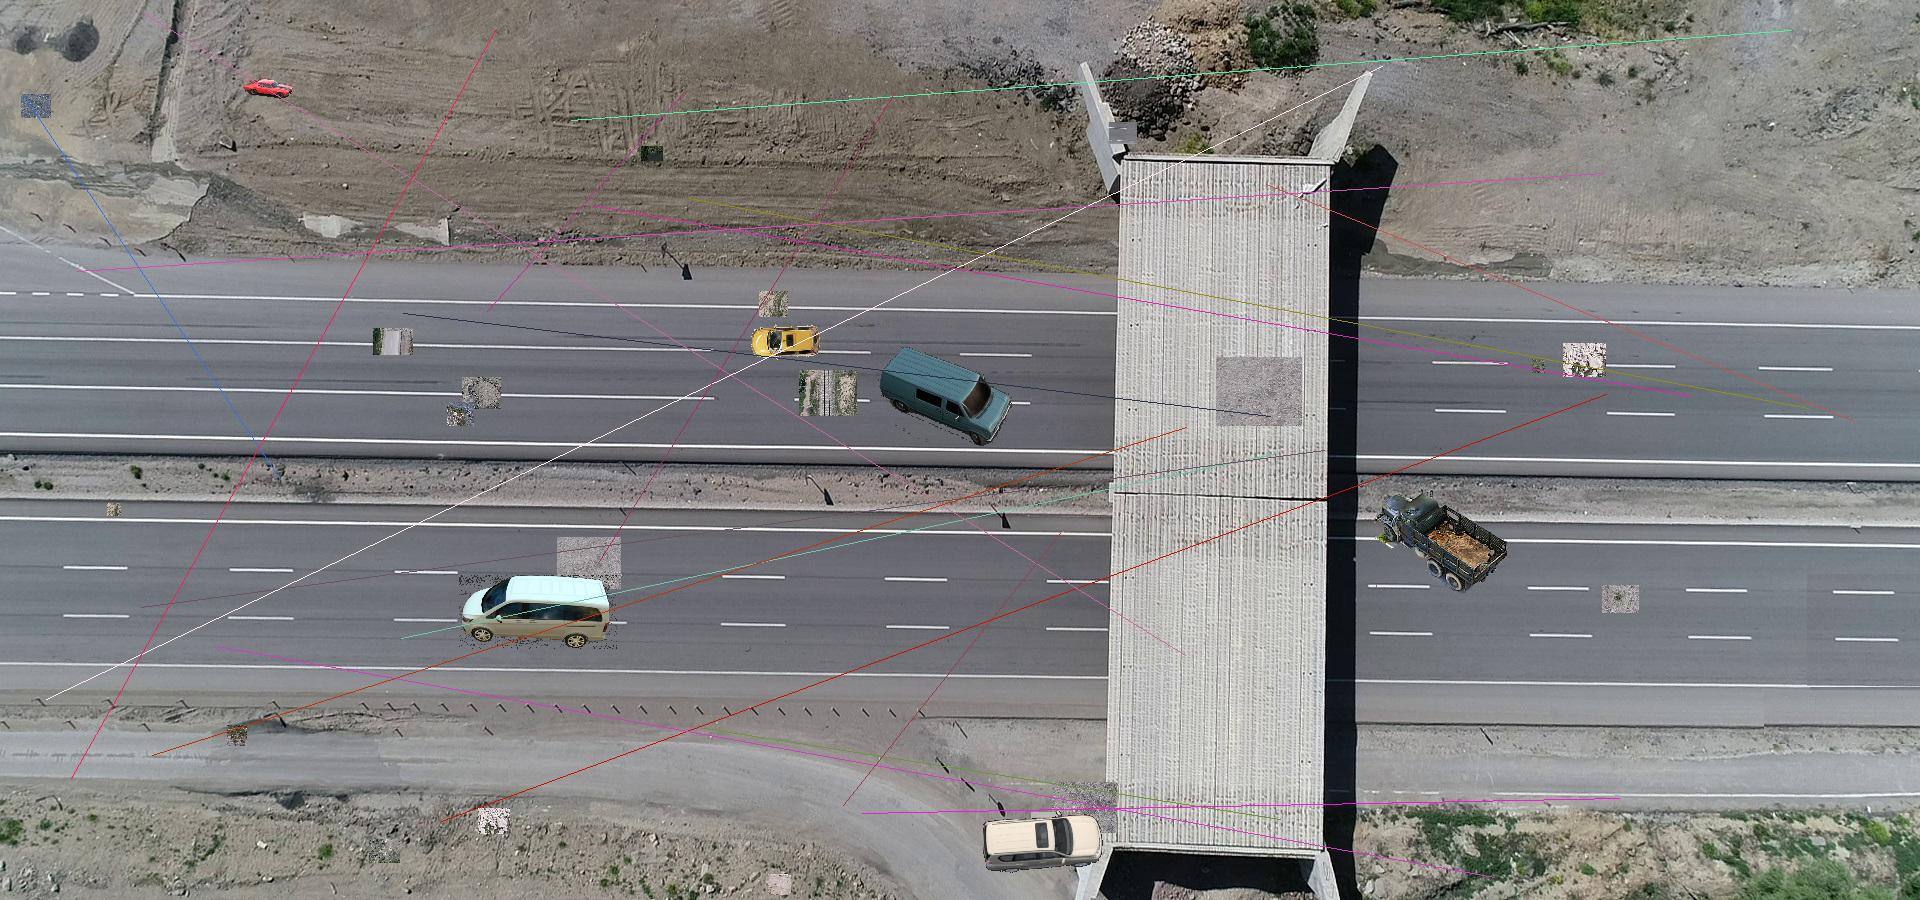arac: (1369, 486, 1509, 594), (878, 344, 1011, 447), (459, 576, 617, 649), (981, 811, 1106, 873), (748, 323, 825, 362), (242, 78, 294, 99)
